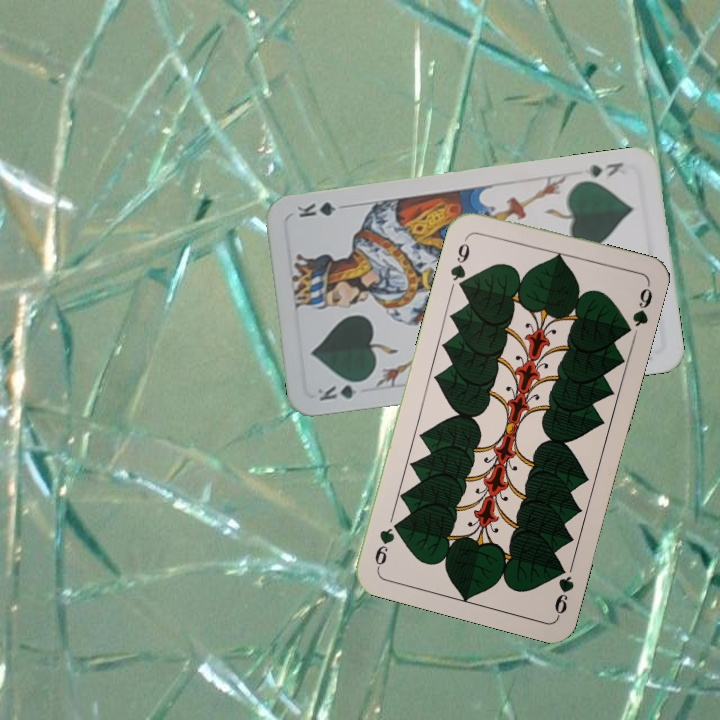G9: (550, 558, 577, 619), (446, 232, 473, 292)
GK: (313, 376, 369, 404), (580, 158, 626, 182)
